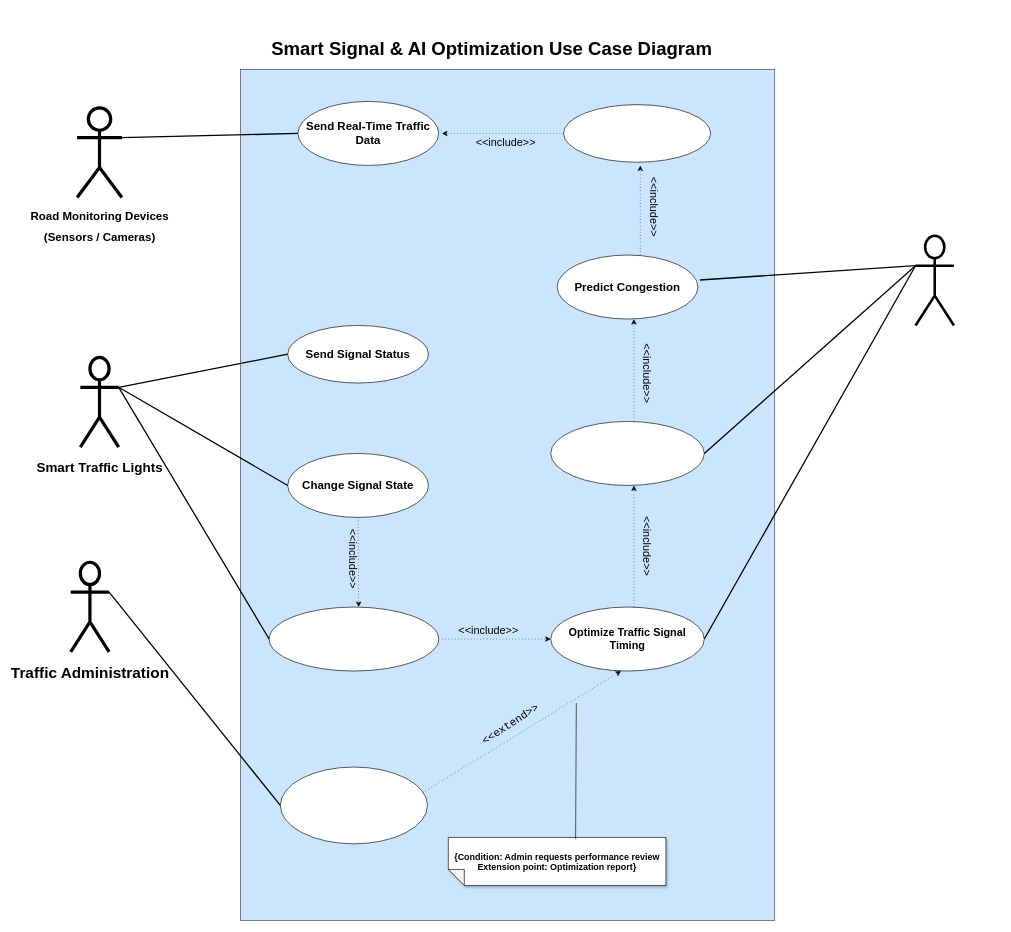
Some shapes in this 1011 by 932 pixel diagram are drawn without their labels. The centre of each missing label's shape, as x and y in pixels:
AI Prediction Engine: point 934,280
Analyze Traffic Data: point 637,133
Generate Optimization Report: point 354,805
Receive Optimized Signal Timing: point 353,638
Simulate Traffic Scenario: point 627,453
